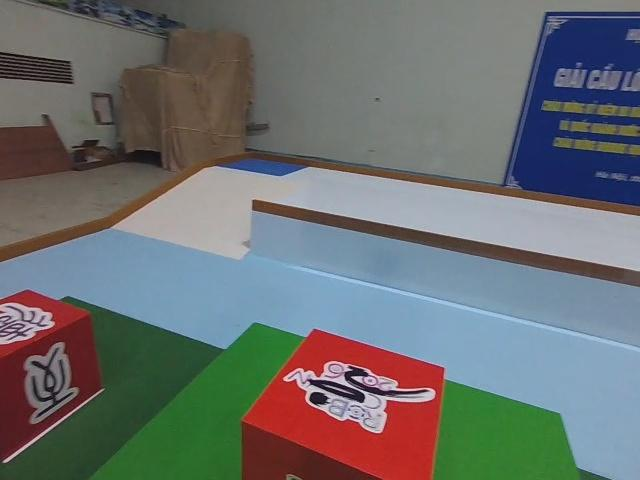R1: (236, 322, 449, 480)
R2 Fake: (0, 284, 100, 463)
